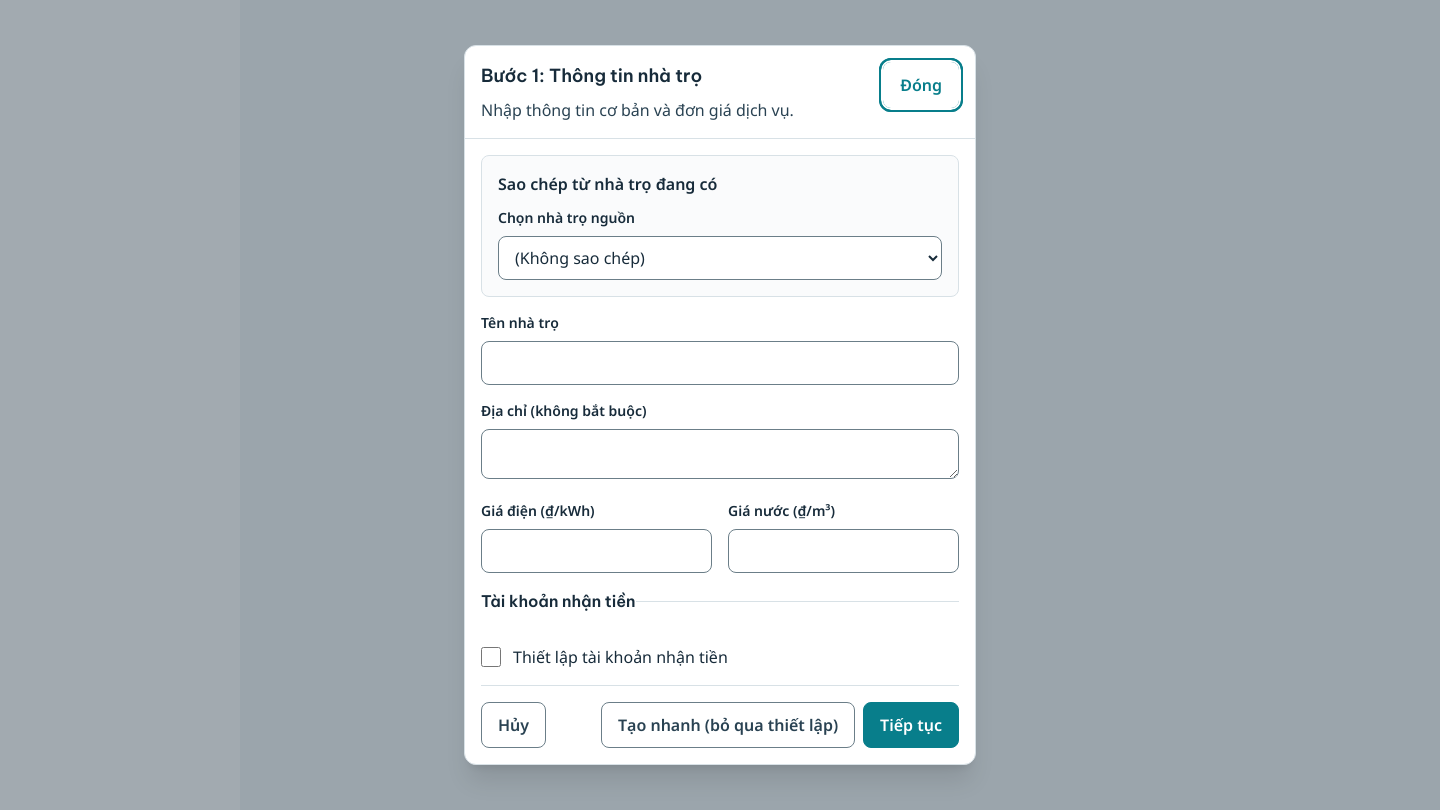
Test: MotelSetupWizard › template selection in Step 2 preview clauses
The width and height of the screenshot is (1440, 810).
Type "Nhà Bước 2" into the field labelled "Tên nhà trọ".
click(720, 363); type("Nhà Bước 2")  # box [481, 341, 959, 385]
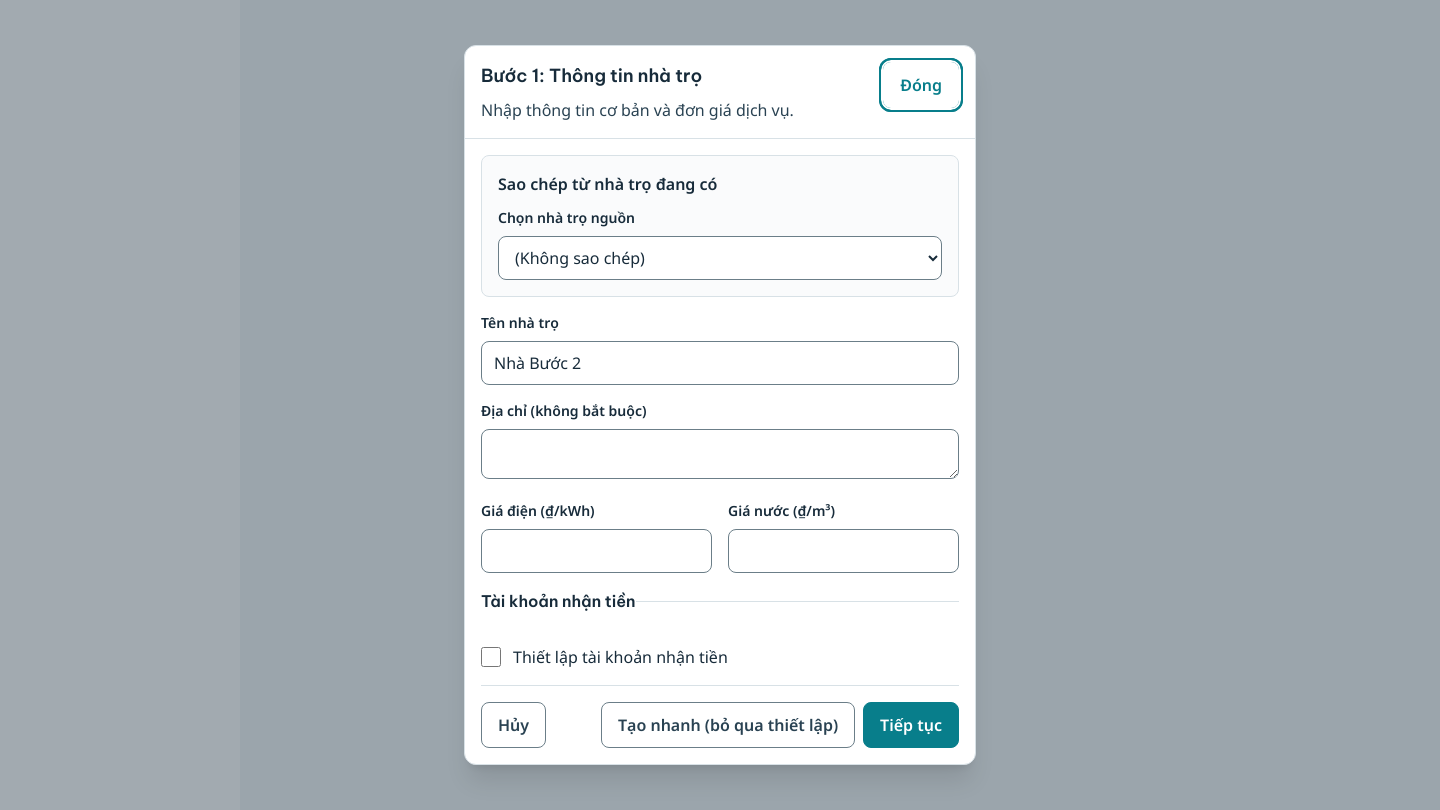
Type "3500" into the field labelled "Giá điện (₫/kWh)".
click(596, 551); type("3500")  # box [481, 529, 712, 573]
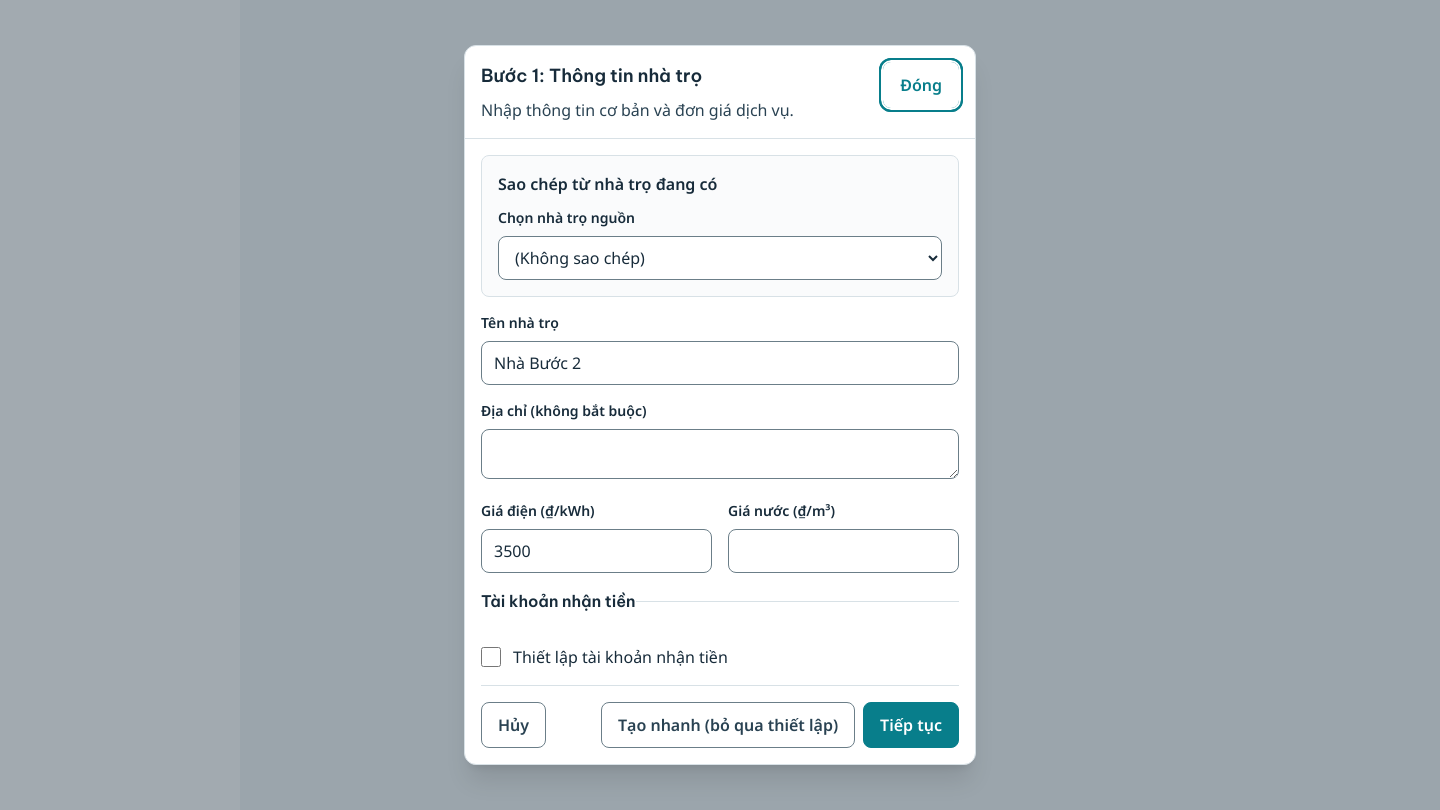
Type "25000" into the field labelled "Giá nước (₫/m³)".
click(844, 551); type("25000")  # box [728, 529, 959, 573]
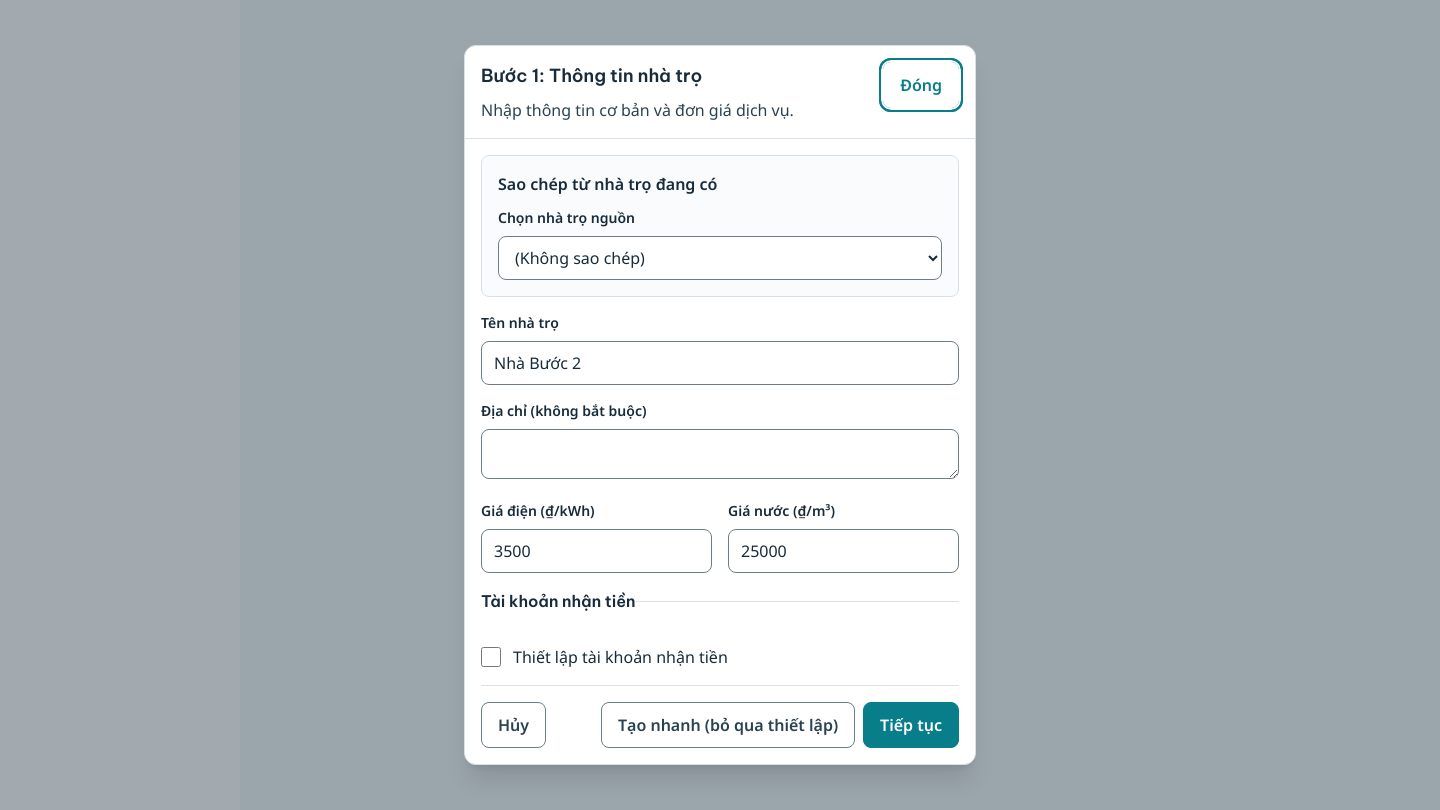
Click the button "Tiếp tục".
click(911, 725)  # box [863, 702, 959, 748]
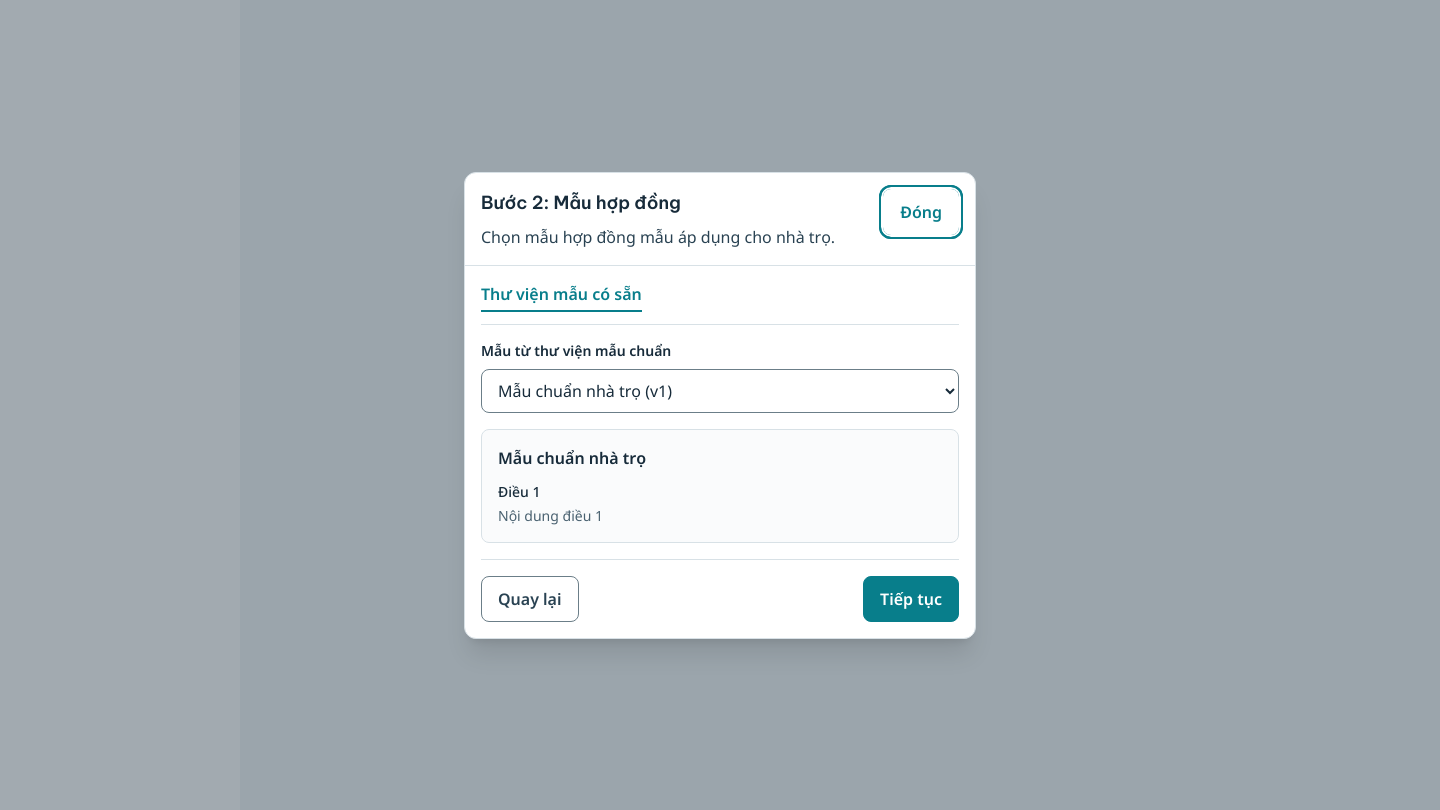
Now the heading "Bước 2: Mẫu hợp đồng" is shown, box [481, 190, 681, 214]
Now the text "Mẫu chuẩn nhà trọ" is shown, box [498, 446, 646, 468]
Now the text "Điều 1" is shown, box [498, 482, 540, 500]
